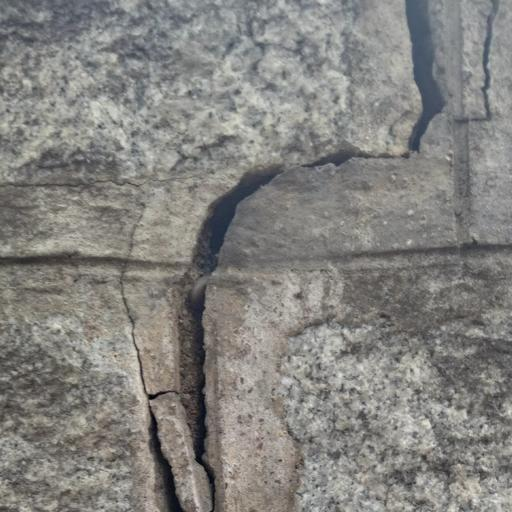major_crack: (113, 0, 498, 512)
